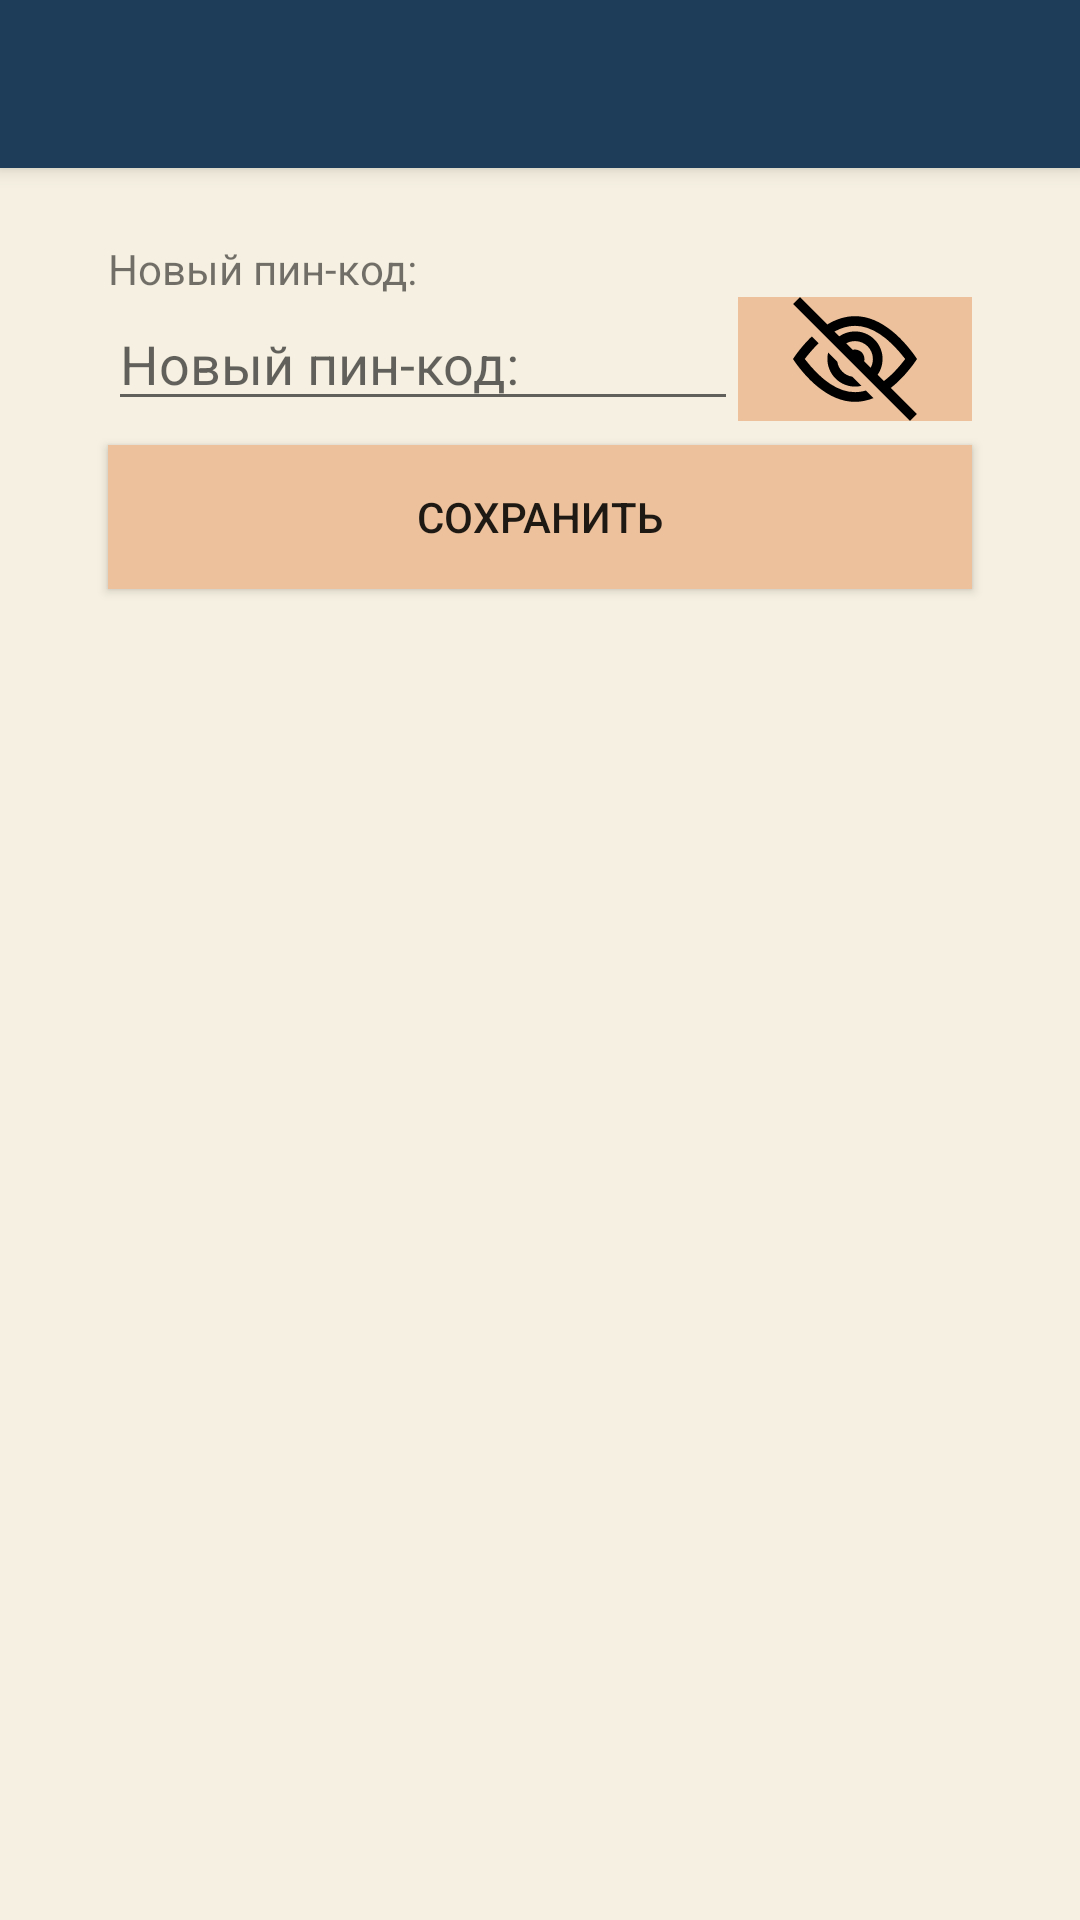

Where to tap for icons on this 1080x1920 app screen, as (x=x, y=y):
eye blind: (x=855, y=359)
